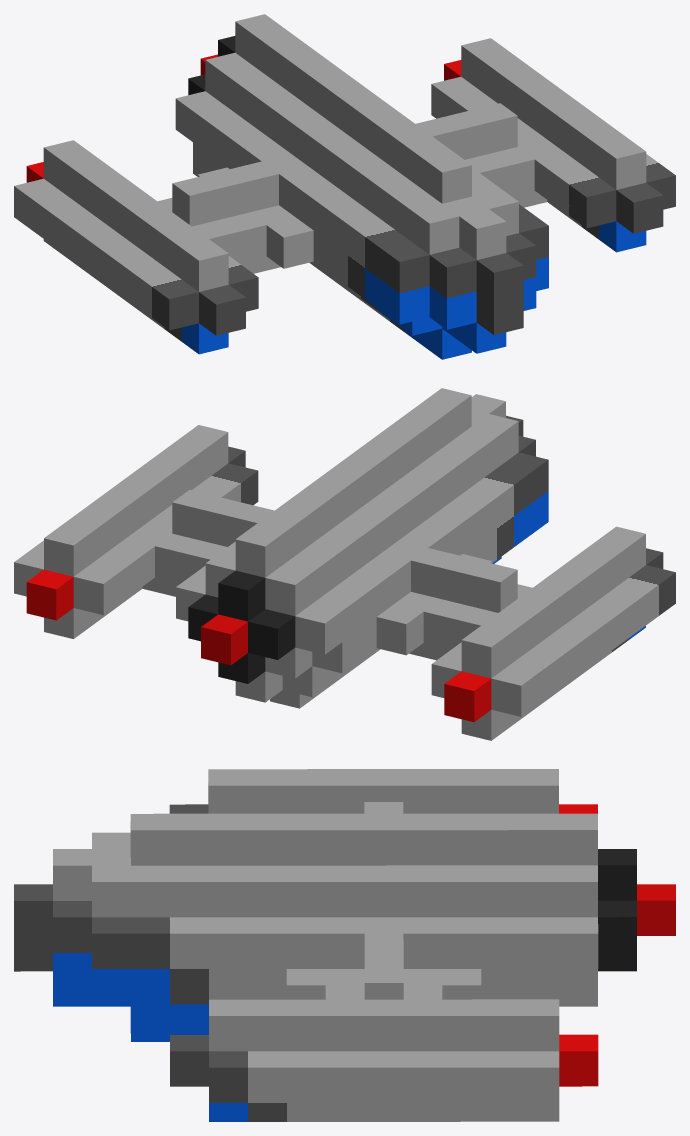
File: corable.glb
The picture shows the model from 3 angles, top to bottom: view 1: azimuth 30°, elevation 25°; view 2: azimuth 150°, elevation 25°; view 3: azimuth 270°, elevation 25°; orthographic projection. The views are drawn at different scales.
Visible parts, largest first — view 1: Content-Mesh; view 2: Content-Mesh; view 3: Content-Mesh.
Part boxes in pixels (box(x1,y1,x2,y2)): Content-Mesh: box(14, 14, 675, 359); Content-Mesh: box(14, 388, 675, 740); Content-Mesh: box(14, 769, 675, 1121).
Size of the model in its own units: 1.53 by 0.54 by 1.53.
Materials: 1 (1 with a texture image).
